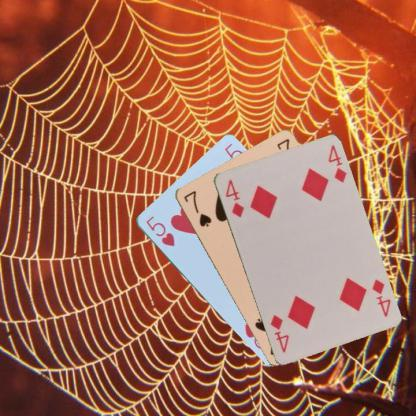4d: (368, 276, 392, 318), (222, 176, 245, 219)
5h: (142, 213, 176, 248)
7s: (180, 188, 213, 228)
